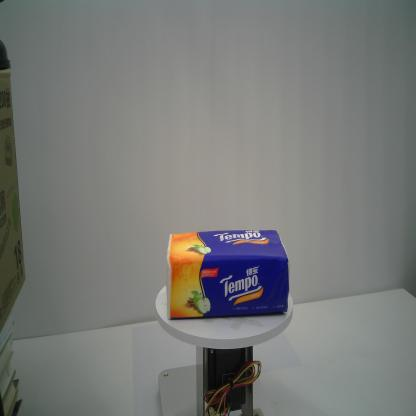Tissue: (166, 230, 289, 320)
